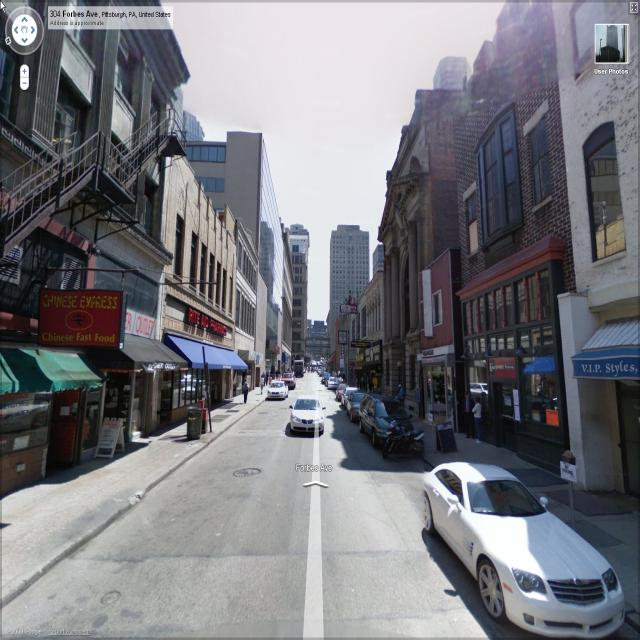b_1: (1, 14, 172, 334), (466, 33, 586, 444), (561, 8, 640, 493), (365, 98, 447, 438), (150, 163, 231, 386), (210, 230, 264, 384), (418, 266, 472, 412), (315, 225, 371, 364), (258, 149, 278, 372), (290, 223, 312, 364), (421, 57, 475, 109), (280, 254, 296, 372)
